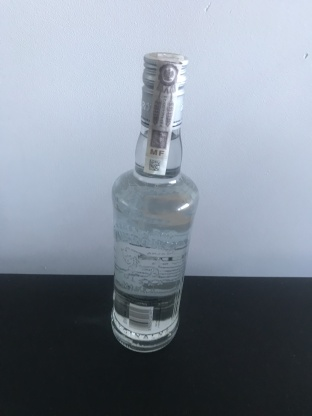nakretka: (138, 46, 191, 131)
